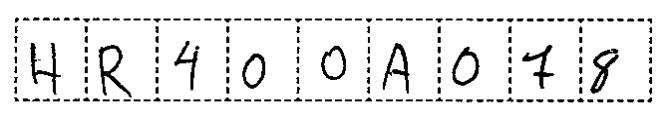0: (315, 38, 353, 86), (448, 40, 484, 90), (236, 50, 273, 91)
4: (166, 37, 208, 96)
7: (516, 40, 558, 91)
8: (585, 43, 624, 94)
A: (376, 40, 417, 98)
H: (24, 39, 65, 98)
R: (95, 40, 137, 96)
